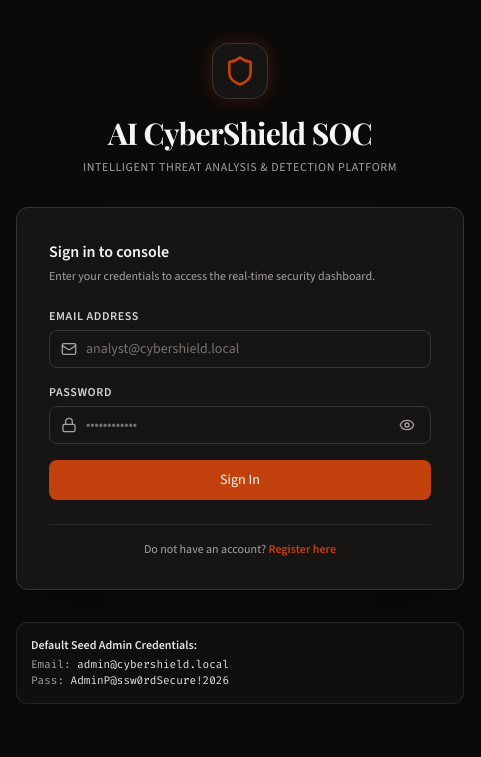
Test case: Auth Feature Pages › LoginPage › displays server error alert when authentication fails
Type "analyst@test.local" into the field labelled "Email Address" at (240, 348), box [49,330,431,368]
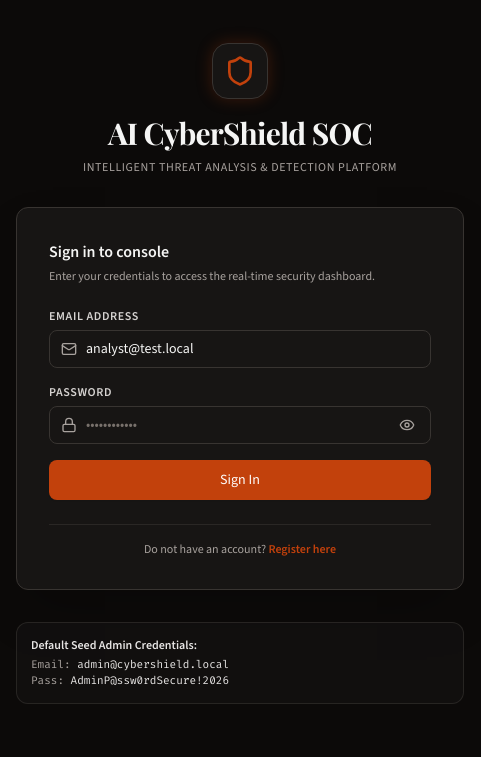
Type "WrongPassword123!" into the password field labelled "Password" at (240, 424), box [49,406,431,444]
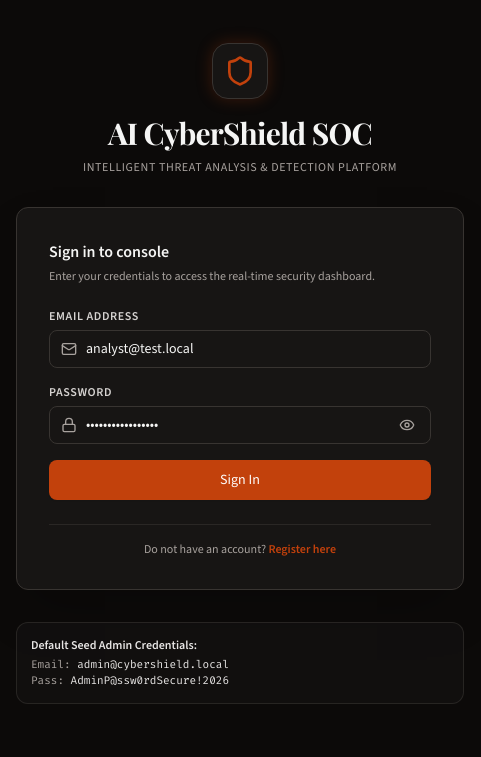
Click the button "Sign In" at (240, 480), box [49,460,431,500]
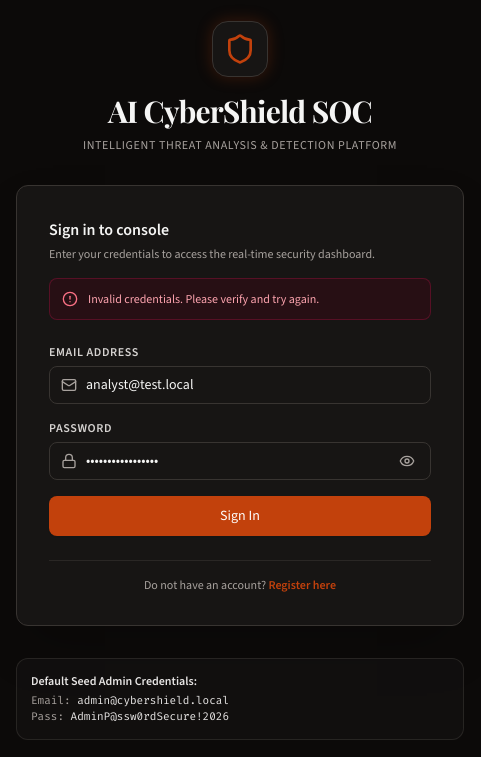
Expected: the message shows "Invalid credentials", [88,291,319,307]
